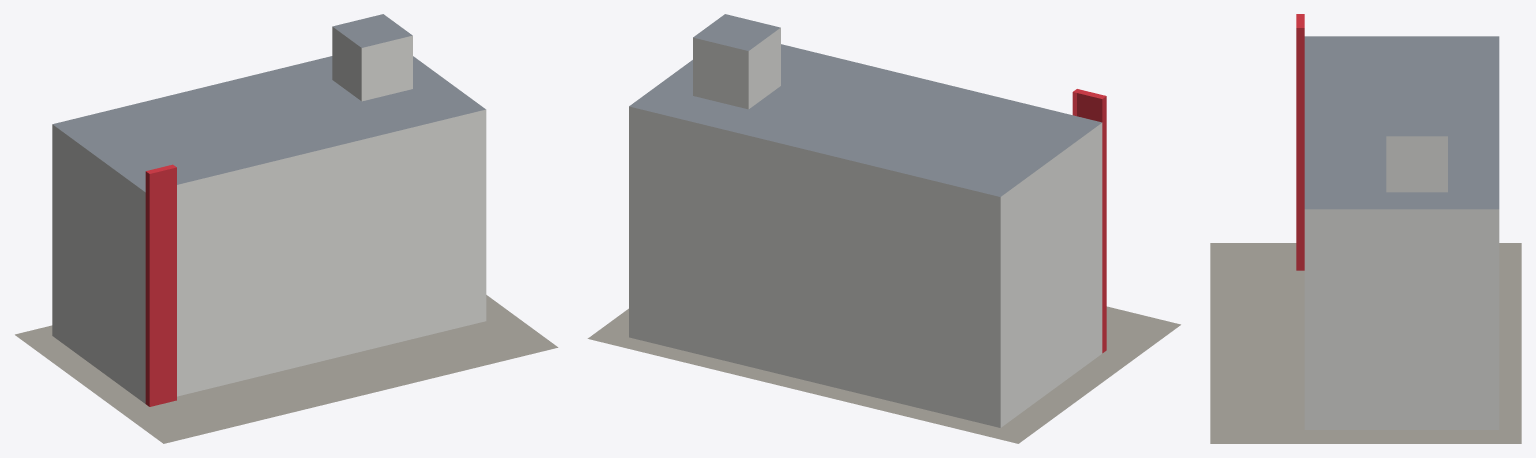
The model's file is mashup-admin-far.fbx.
3 views of the same model, side by side, from view 1: azimuth 30°, elevation 25°; view 2: azimuth 150°, elevation 25°; view 3: azimuth 270°, elevation 25° (orthographic). The views are drawn at different scales.
Parts seen in each view (by area): view 1: a1029/0/mashup-admin-far; view 2: a1029/0/mashup-admin-far; view 3: a1029/0/mashup-admin-far.
Part boxes in pixels (x1,y1,x2,y2): a1029/0/mashup-admin-far: (15,14,558,443); a1029/0/mashup-admin-far: (587,14,1180,443); a1029/0/mashup-admin-far: (1210,14,1521,443).
Size of the model in its own units: 23.2 by 14.88 by 15.2.
